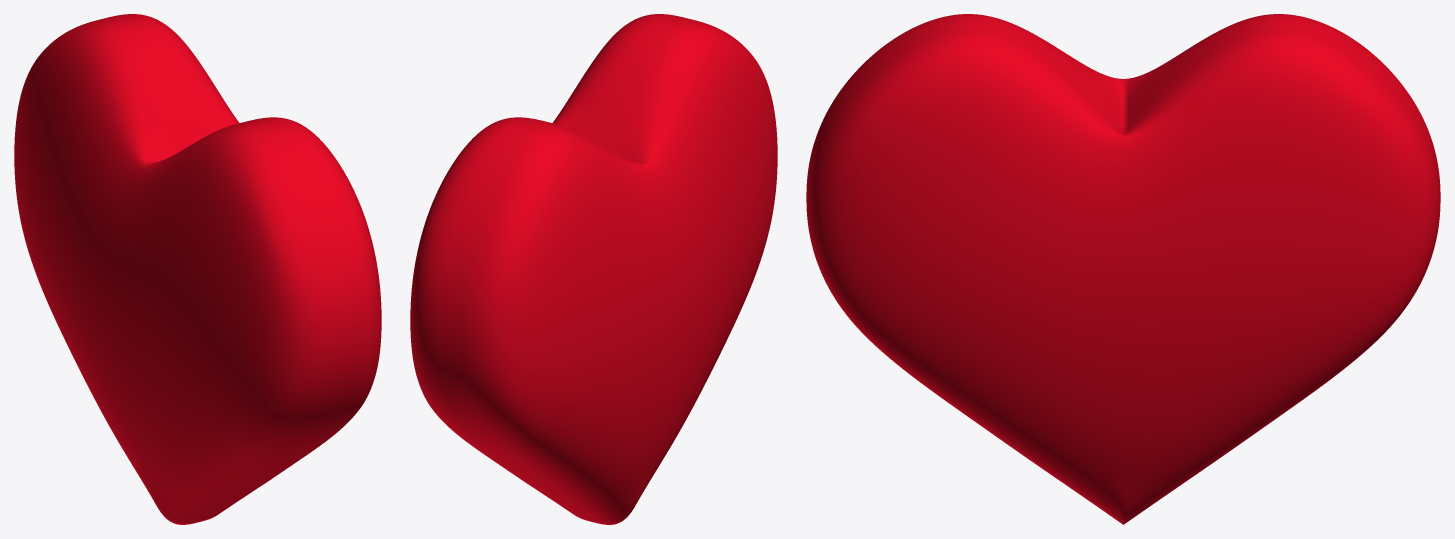
The model's file is Heart.gltf.
3 renders of one model, left to right at view 1: azimuth 30°, elevation 25°; view 2: azimuth 150°, elevation 25°; view 3: azimuth 270°, elevation 25°, orthographic. The views are drawn at different scales.
Visible parts, largest first — view 1: Cube; view 2: Cube; view 3: Cube.
Boxes of the visible parts, x1=… form: Cube: x1=14, y1=14, x2=381, y2=524; Cube: x1=410, y1=14, x2=777, y2=524; Cube: x1=806, y1=14, x2=1440, y2=524.
Size of the model in its own units: 0.7052 by 1.85 by 2.16.
